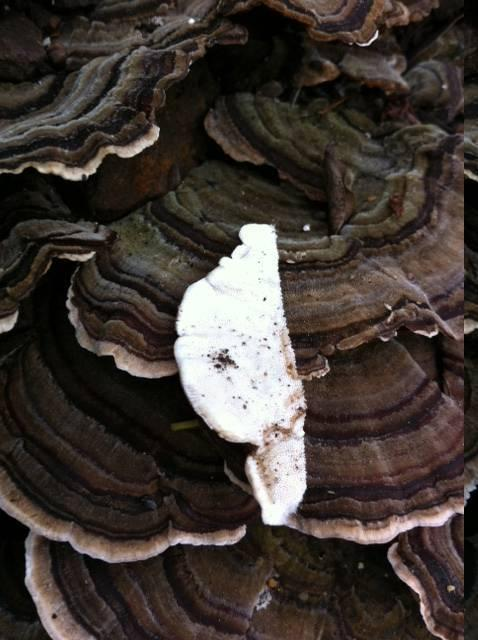poisonous_mushroom: (0, 0, 468, 624), (171, 220, 310, 528)
